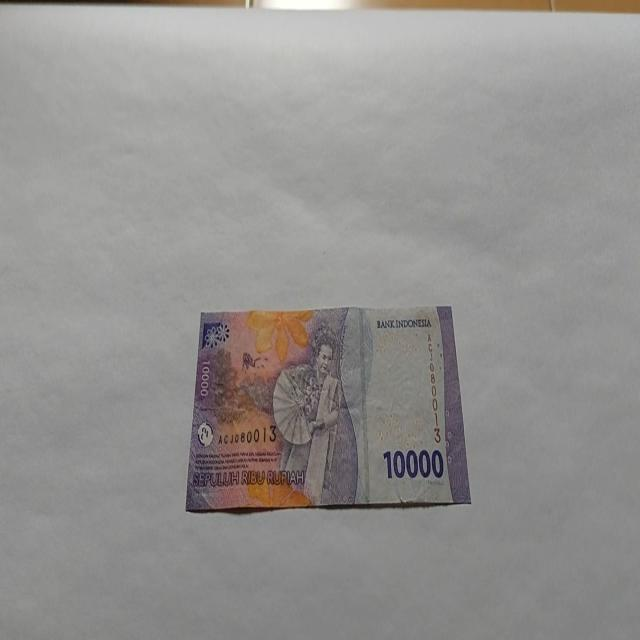sepuluh ribu rupiah: (184, 303, 472, 513)
